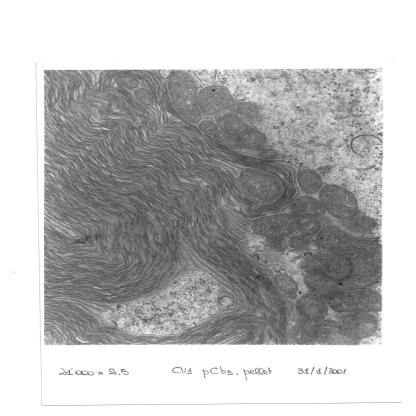mitochondria: (162, 72, 206, 125), (318, 180, 362, 218), (240, 167, 279, 204), (196, 84, 233, 115), (336, 312, 380, 338), (252, 214, 300, 237), (296, 294, 329, 320), (290, 198, 326, 220), (352, 289, 383, 312), (298, 166, 323, 192), (236, 129, 267, 148), (328, 290, 356, 311), (234, 101, 263, 121), (273, 272, 297, 296), (302, 272, 331, 291), (351, 216, 379, 234), (213, 130, 238, 149), (216, 114, 244, 130), (300, 220, 325, 236), (134, 88, 155, 107), (115, 74, 141, 88), (256, 146, 279, 160), (288, 235, 308, 249), (199, 121, 219, 134)
